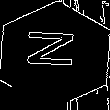N_E: (26, 34, 84, 76)
